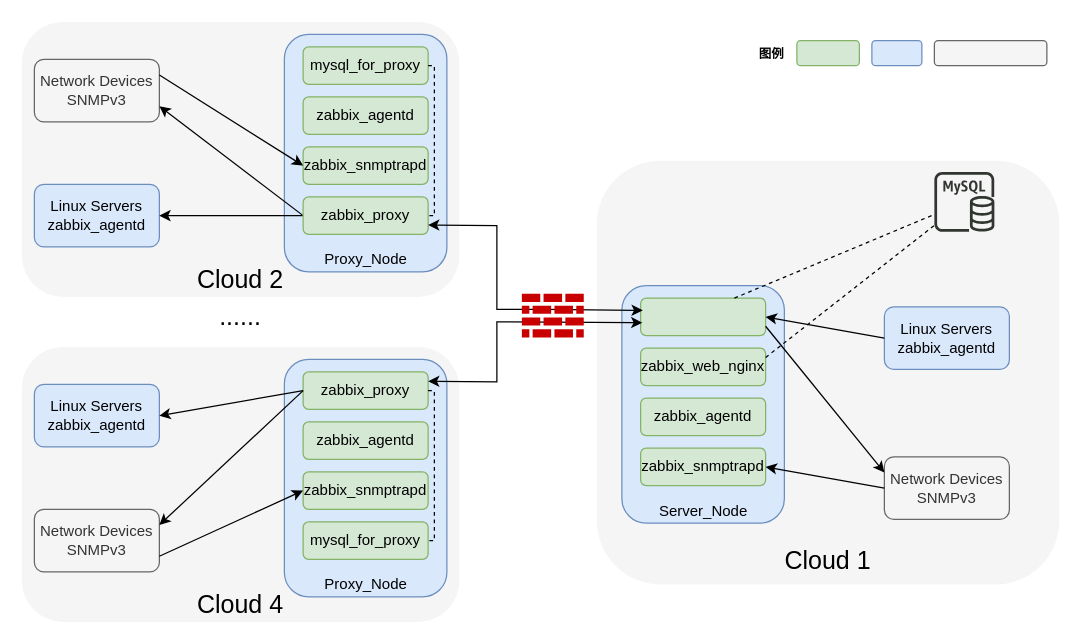
Image size: 1080x643. Some labels were removed from this diagram. The shapes that lost their labels are listed below. From the top down, each one's centre as x and y in pixels, then its label:
the point at 827,52: docker
the point at 896,52: Linux
the point at 990,52: Network Device
the point at 963,201: RDS Instance
the point at 552,315: FireWall NAT
the point at 702,316: zabbix_server
